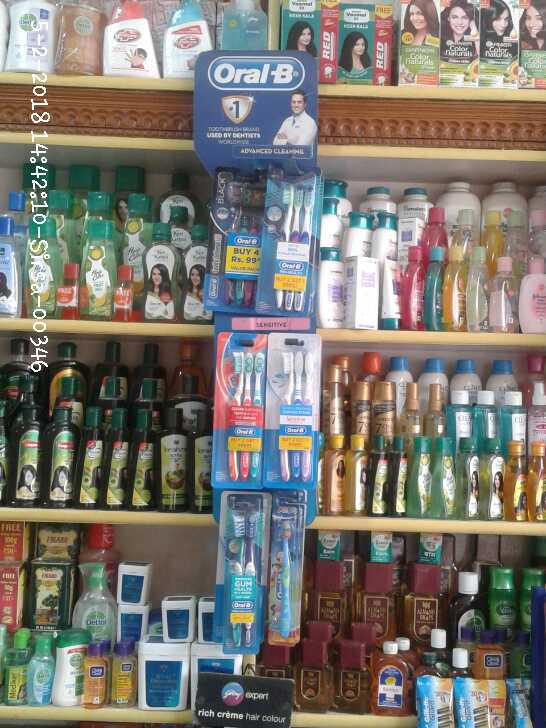oralb: (206, 173, 258, 322), (215, 336, 259, 484), (270, 340, 313, 483), (267, 174, 308, 322), (264, 503, 307, 631), (217, 508, 258, 642)
